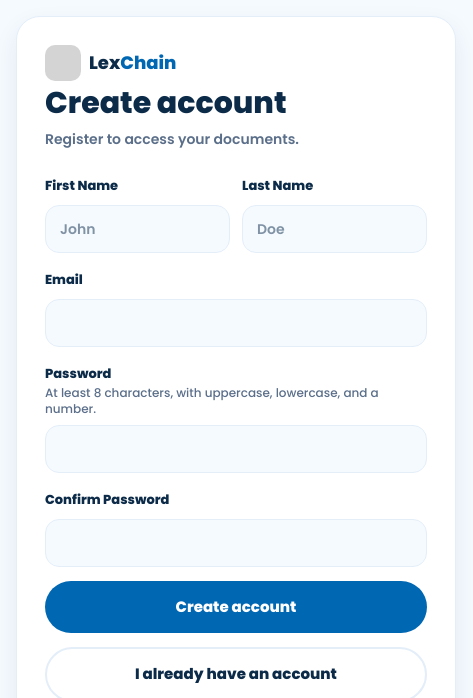
RegisterPage › shows signup failures while preserving entered values
Type "Ada" into the field labelled "First Name" at (138, 229), box x1=45 y1=205 x2=230 y2=253
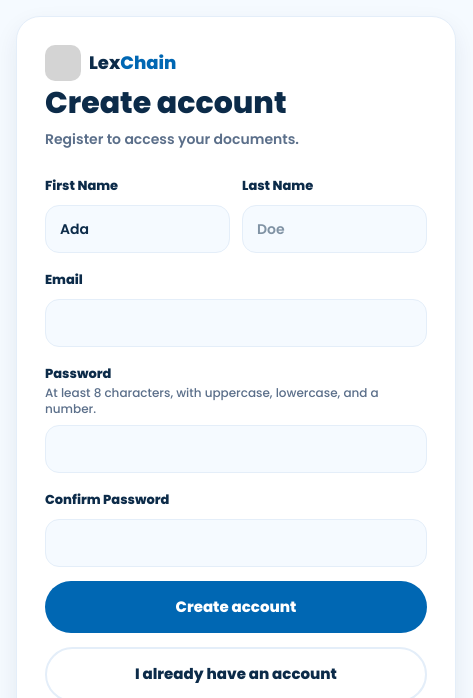
Type "O'Connor" into the field labelled "Last Name" at (334, 229), box x1=242 y1=205 x2=427 y2=253
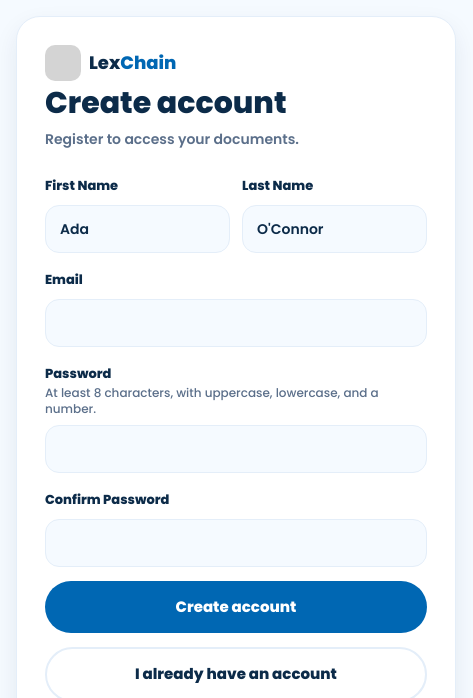
Type "elodie@example.com" into the field labelled "Email" at (236, 323), box x1=45 y1=299 x2=427 y2=347
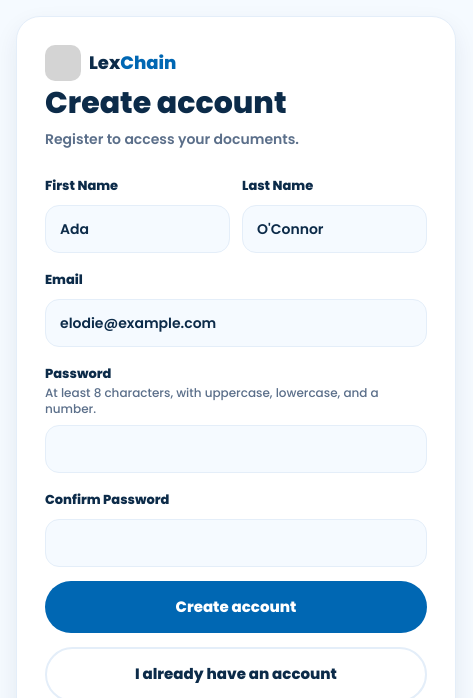
Type "Password1" into the password field labelled "Password" at (236, 449), box x1=45 y1=425 x2=427 y2=473
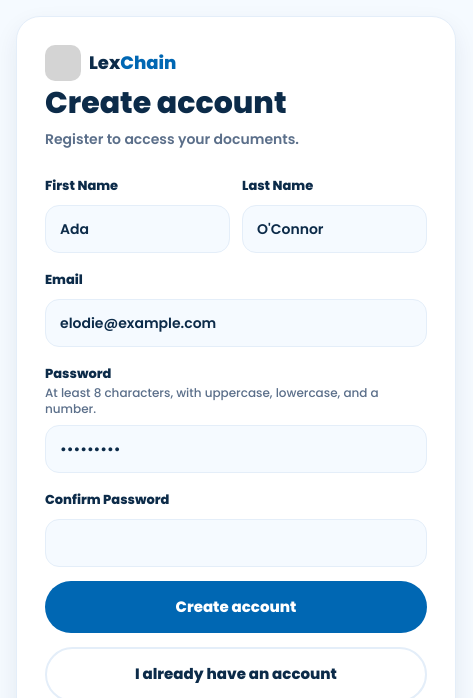
Type "Password1" into the password field labelled "Confirm Password" at (236, 543), box x1=45 y1=519 x2=427 y2=567
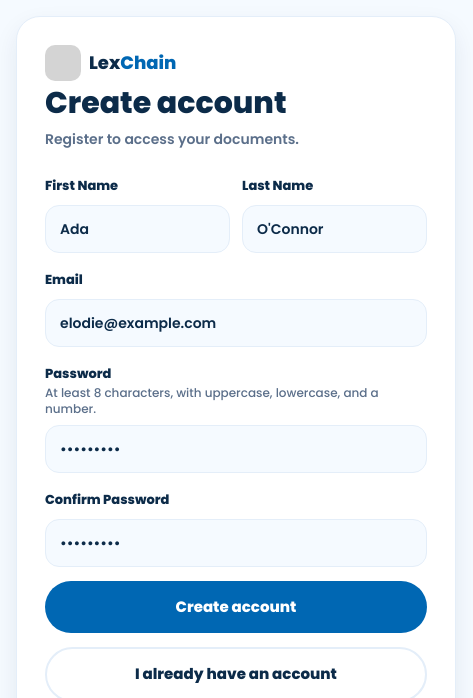
Click the button "Create account" at (236, 607), box x1=45 y1=581 x2=427 y2=633
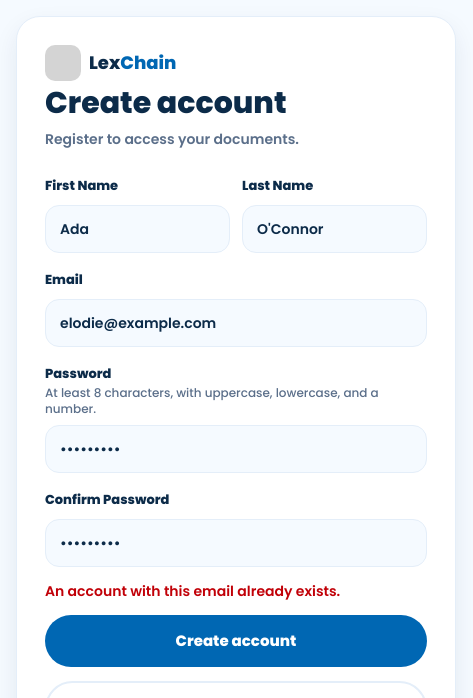
Expected: the message reads "An account with this email already exists.", x1=45 y1=581 x2=340 y2=601
